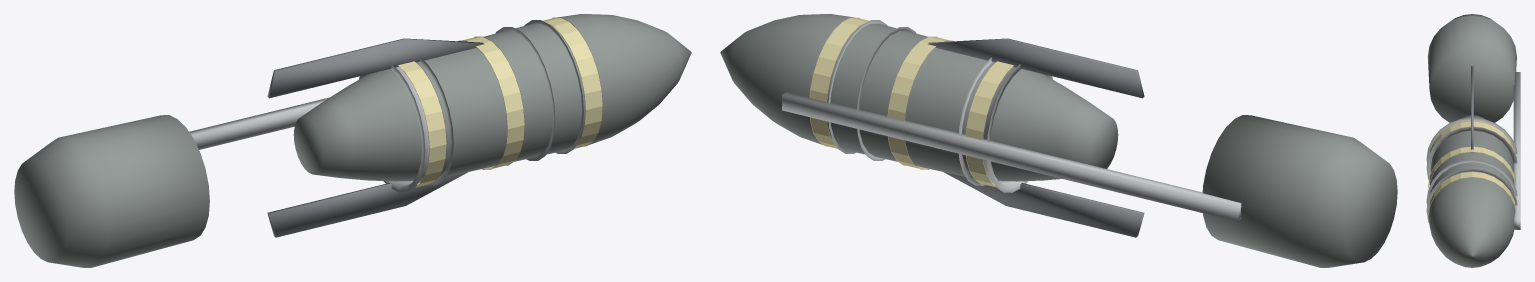
File: FR_SLBM_M45_LOD1.fbx
The picture shows the model from 3 angles, left to right: view 1: azimuth 30°, elevation 25°; view 2: azimuth 150°, elevation 25°; view 3: azimuth 270°, elevation 25°; orthographic projection. The views are drawn at different scales.
Visible parts, largest first — view 1: WPN_FR_SLBM_M45_LOD1_Body, WPN_FR_SLBM_M45_LOD1_Tail, WPN_FR_SLBM_M45_LOD1_Detail, WPN_FR_SLBM_M45_LOD1_Marking; view 2: WPN_FR_SLBM_M45_LOD1_Body, WPN_FR_SLBM_M45_LOD1_Tail, WPN_FR_SLBM_M45_LOD1_Detail, WPN_FR_SLBM_M45_LOD1_Marking; view 3: WPN_FR_SLBM_M45_LOD1_Body, WPN_FR_SLBM_M45_LOD1_Tail, WPN_FR_SLBM_M45_LOD1_Detail, WPN_FR_SLBM_M45_LOD1_Marking.
Part boxes in pixels (x1,y1,x2,y2): WPN_FR_SLBM_M45_LOD1_Body: [293, 14, 691, 181]; WPN_FR_SLBM_M45_LOD1_Tail: [14, 115, 209, 267]; WPN_FR_SLBM_M45_LOD1_Detail: [189, 20, 583, 237]; WPN_FR_SLBM_M45_LOD1_Marking: [397, 17, 602, 187]; WPN_FR_SLBM_M45_LOD1_Body: [720, 14, 1118, 181]; WPN_FR_SLBM_M45_LOD1_Tail: [1202, 115, 1397, 267]; WPN_FR_SLBM_M45_LOD1_Detail: [782, 20, 1241, 237]; WPN_FR_SLBM_M45_LOD1_Marking: [809, 17, 1014, 187]; WPN_FR_SLBM_M45_LOD1_Body: [1428, 115, 1515, 267]; WPN_FR_SLBM_M45_LOD1_Tail: [1427, 14, 1516, 122]; WPN_FR_SLBM_M45_LOD1_Detail: [1426, 66, 1520, 229]; WPN_FR_SLBM_M45_LOD1_Marking: [1428, 121, 1515, 227].
Bounding box in the file's own units: 11 × 2.07 × 2.68.
